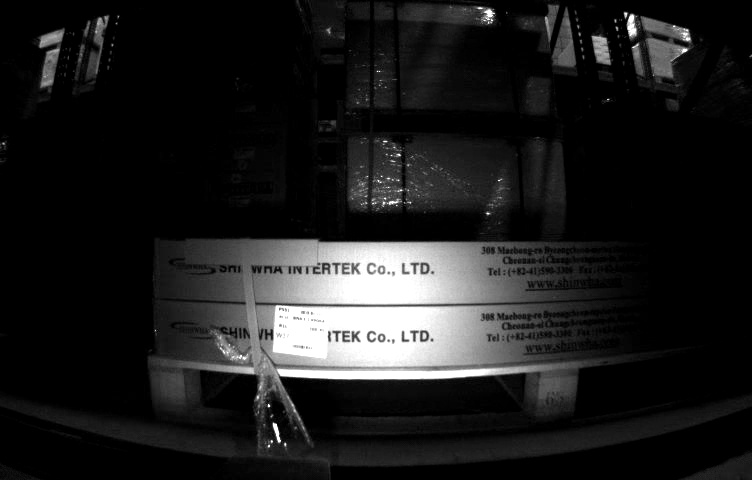True Barcode: (275, 303, 326, 360)
